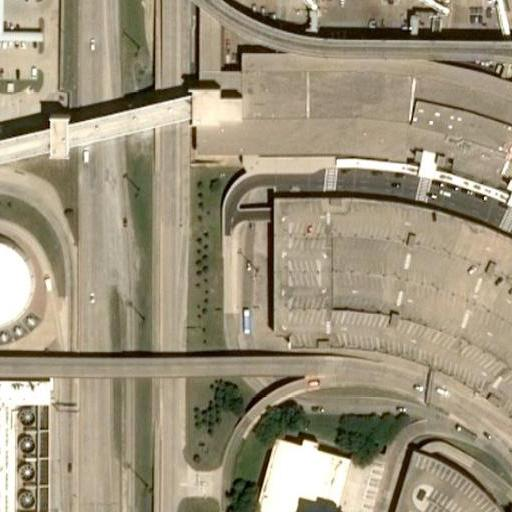Aircraft: (449, 0, 512, 6)
